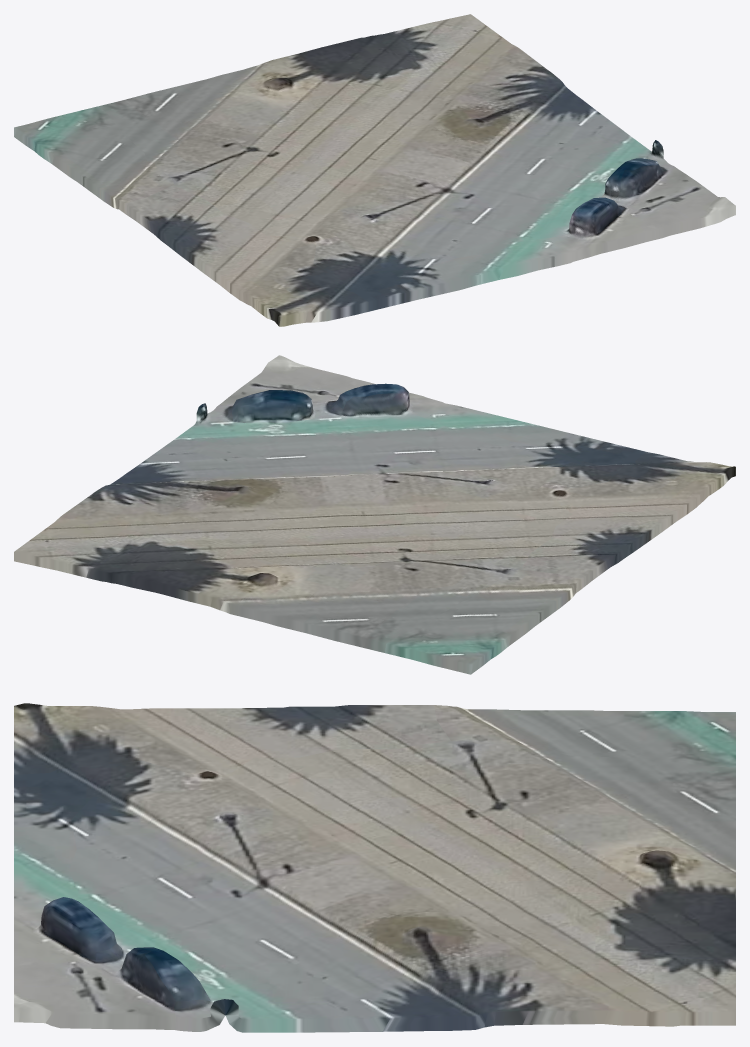
File: z20-167772-405197-h0-yup-uvflip-v3-world.glb
3 views of the same model, one above another, from view 1: azimuth 30°, elevation 25°; view 2: azimuth 150°, elevation 25°; view 3: azimuth 270°, elevation 25° (orthographic). The views are drawn at different scales.
Size of the model in its own units: 30.16 by 2.04 by 30.32.
1 material, 1 textured.
